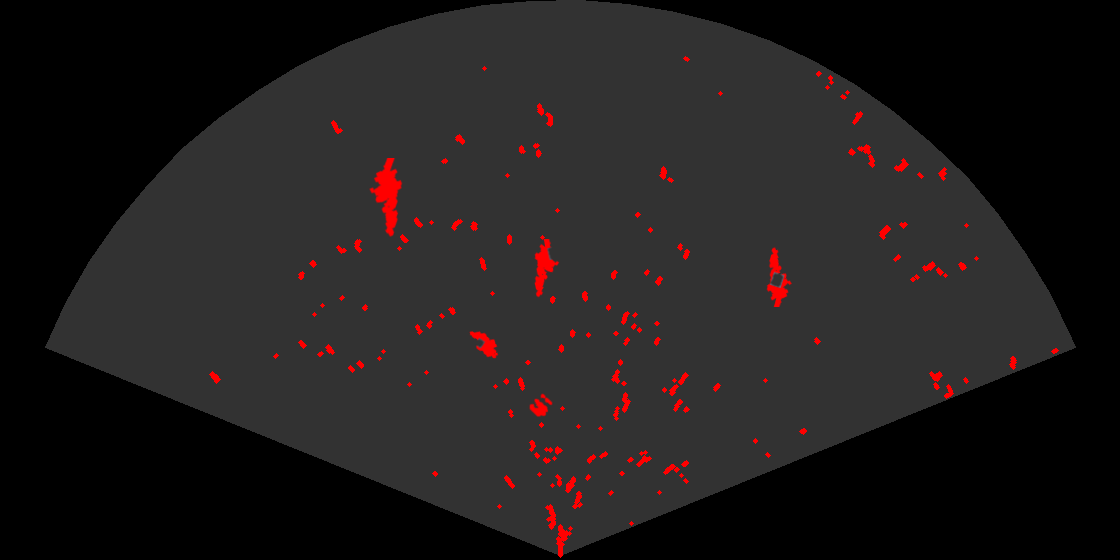AUV: (468, 330, 500, 360)
ball: (528, 392, 554, 419)
frogman: (368, 158, 404, 239), (765, 245, 794, 307), (533, 239, 561, 299)
